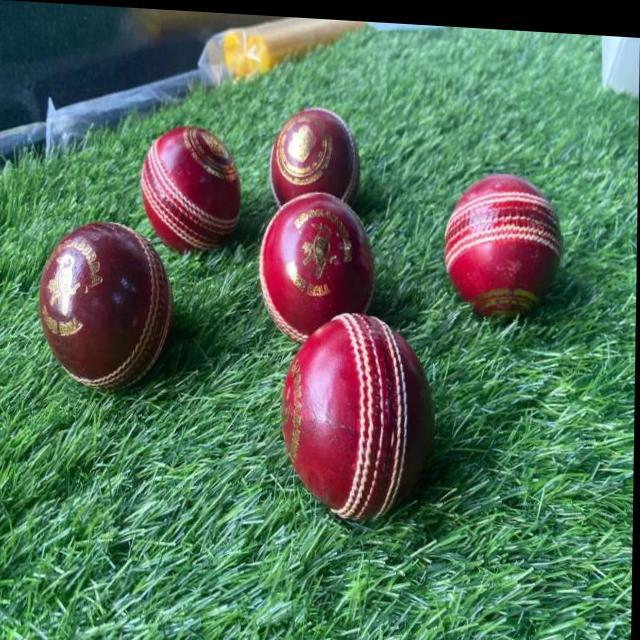cricket ball: (283, 310, 435, 514), (40, 222, 174, 390), (259, 189, 377, 338), (445, 169, 563, 314), (140, 125, 242, 250), (269, 101, 360, 203)
